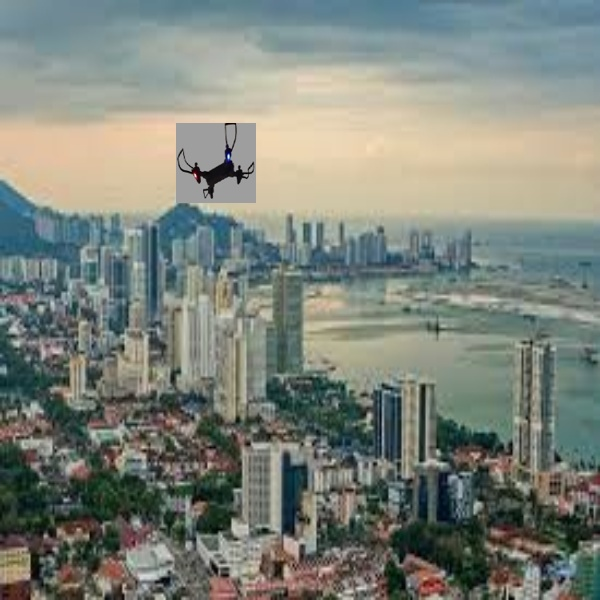drone: (176, 121, 257, 202)
